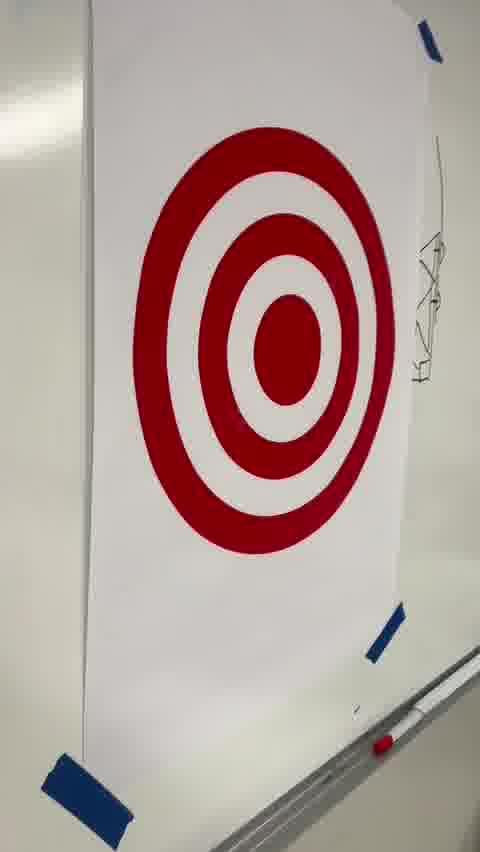target_red: (130, 128, 394, 560)
